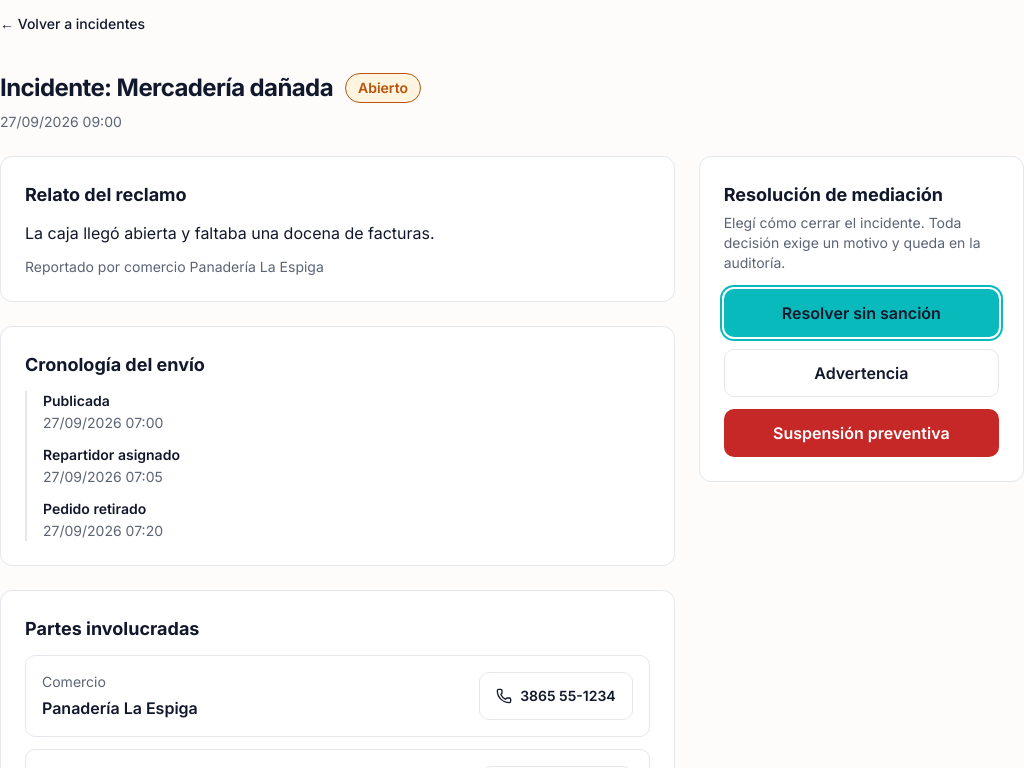
it: PR113-H07/H08: Dialogs de resolución de A05 › no_action: el clic solo abre un Dialog titulado y descripto
Click the button "Resolver sin sanción" at [861, 313], box [724,289,999,337]
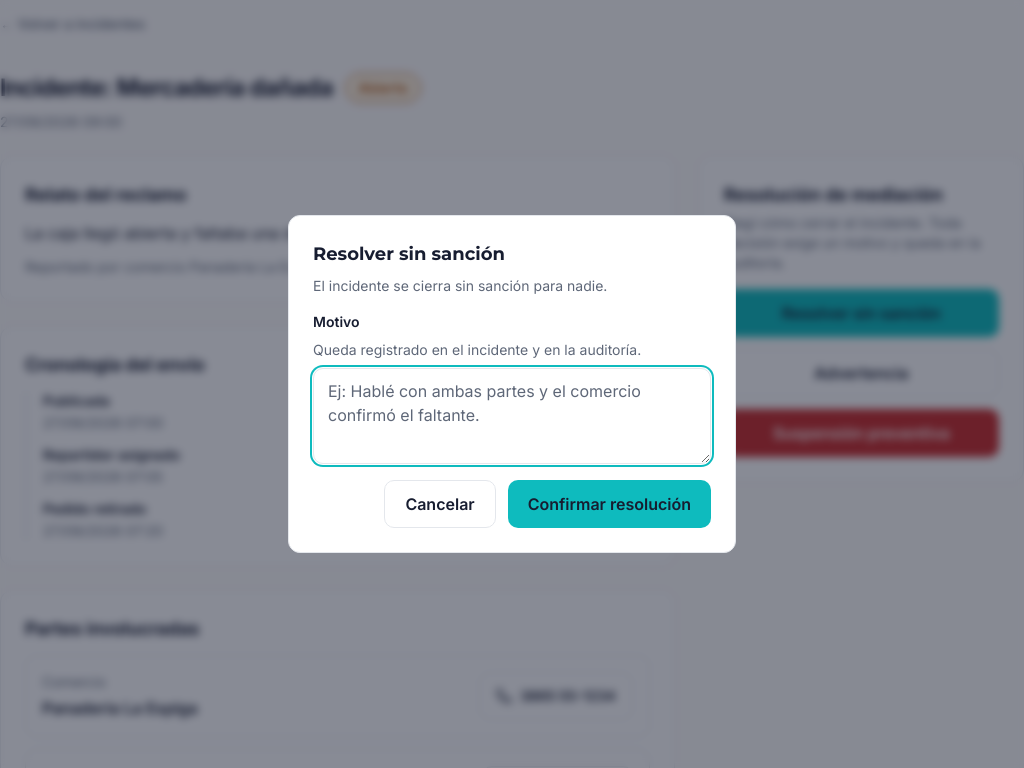
Result: the text box labelled "Motivo" is shown at [313,368,711,464]
Result: the heading "Resolver sin sanción" is shown at [313,243,505,265]
